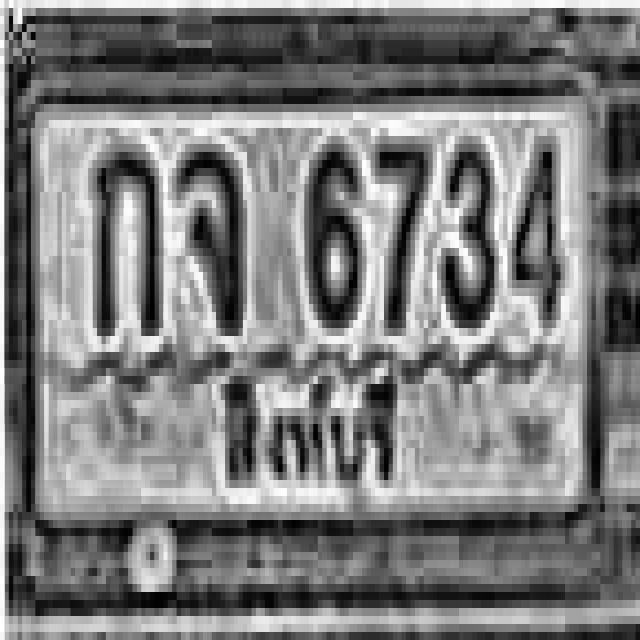license-plate: (20, 68, 612, 586)
